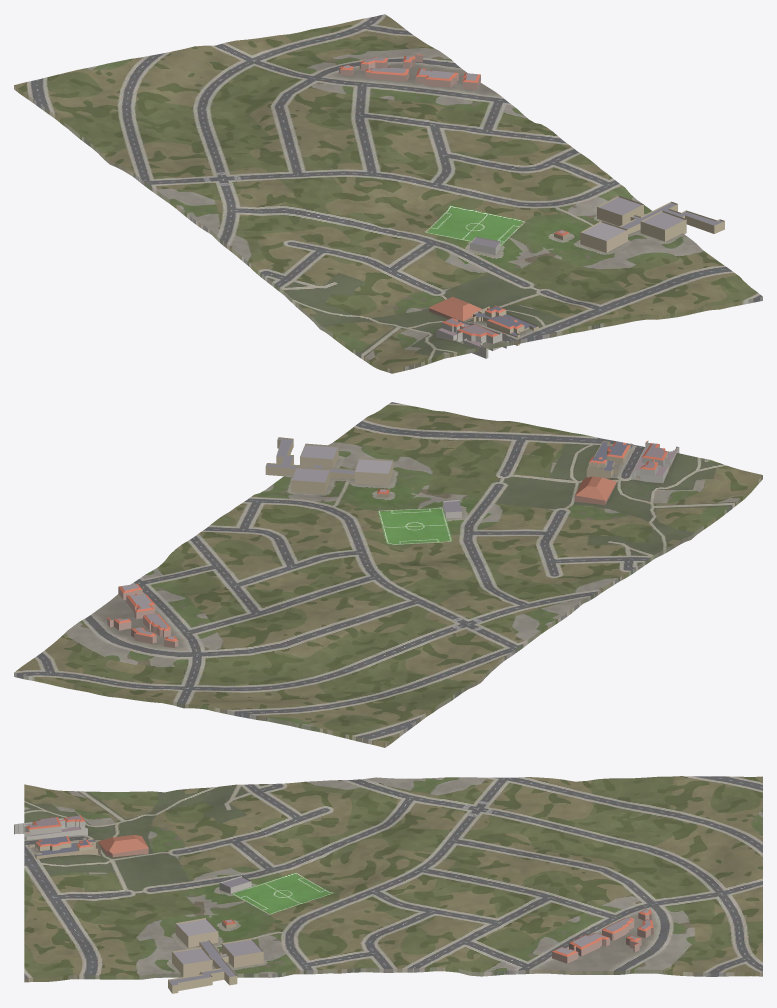
The picture shows the model from 3 angles, top to bottom: view 1: azimuth 30°, elevation 25°; view 2: azimuth 150°, elevation 25°; view 3: azimuth 270°, elevation 25°; orthographic projection. The views are drawn at different scales.
Visible parts, largest first — view 1: terrain, buildings; view 2: terrain, buildings; view 3: terrain, buildings.
Boxes of the visible parts, x1,y1,x2,y2 form: terrain: [14, 14, 762, 373]; buildings: [339, 54, 724, 358]; terrain: [14, 402, 762, 747]; buildings: [107, 437, 679, 647]; terrain: [24, 776, 762, 982]; buildings: [14, 815, 653, 993].
Bounding box in the file's own units: 312 × 21.91 × 507.
2 materials, 1 textured.
